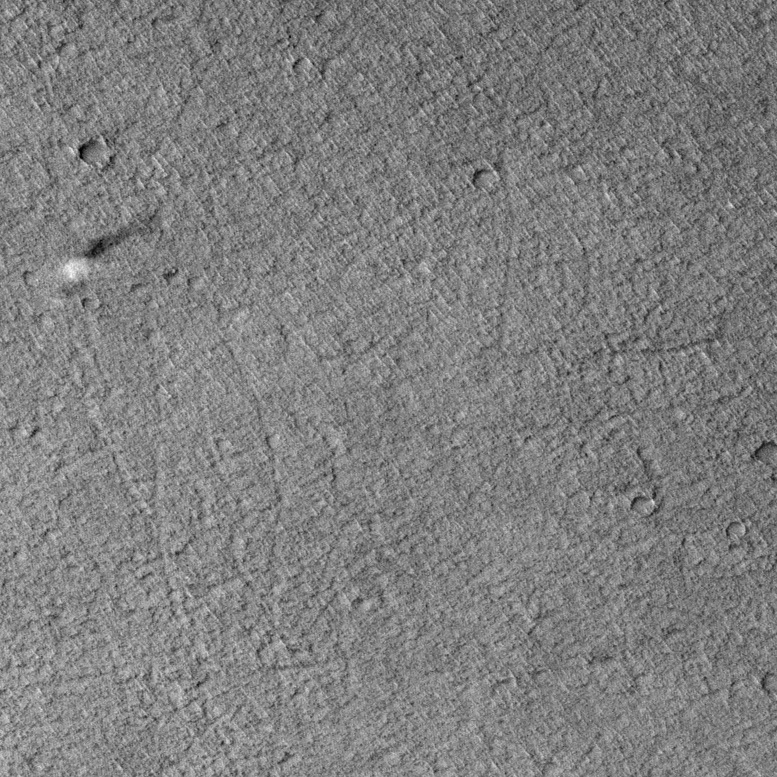dust_devil: (59, 213, 162, 282)
